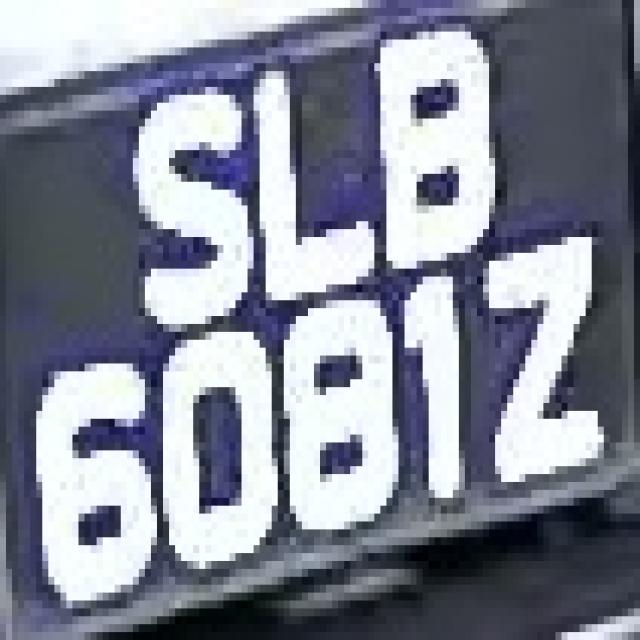0: (151, 308, 290, 585)
1: (399, 237, 483, 522)
6: (24, 356, 163, 624)
8: (272, 300, 411, 561)
B: (356, 23, 513, 260)
L: (242, 55, 374, 316)
S: (109, 71, 248, 340)
Z: (477, 221, 622, 506)
